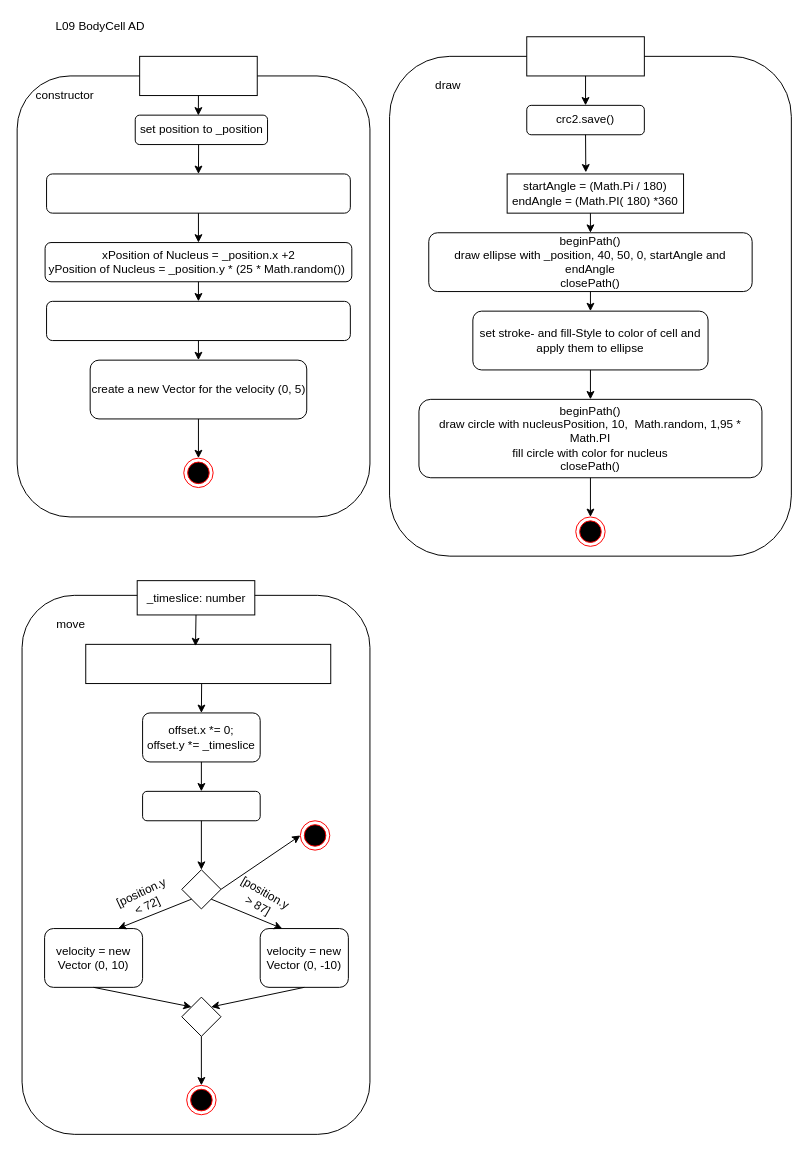
Image size: 809x1152. Some labels were removed from this diagram. Here are the shapes that lost their labels. From the top down, the box of each, then its label:
(139, 55, 257, 96): _position: Vector _colorIndex: Vector
(526, 36, 644, 76): _position: Vector
(46, 173, 350, 213): define Arrays of colors both for the cell and the nuclei
(46, 300, 350, 341): randomly choose color for the cell and for the nucleus
(85, 643, 331, 684): offset: Vector = (this.velocity.x, this.velocity.y)
(142, 790, 260, 821): add offset to position
